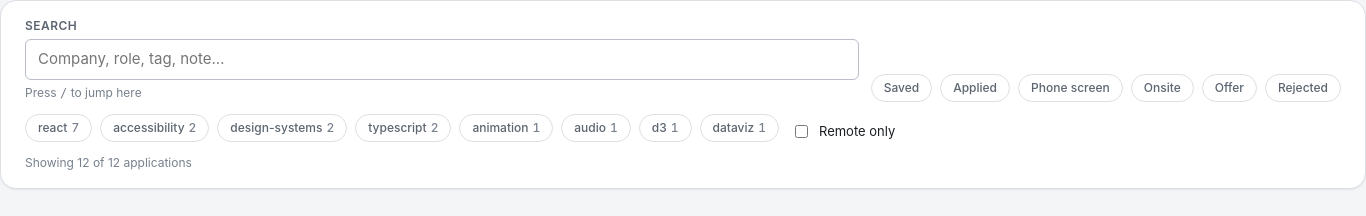
Test: FilterBar › clears every active filter at once
Expected: the text "Showing 12 of 12 applications" is shown, [25,154,192,170]
Click the checkbox labelled "Remote only". click: (802, 132)
box: [795,125,808,138]
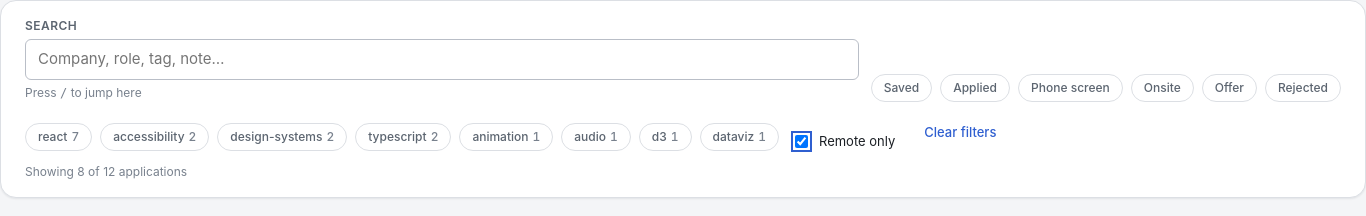
Type "engineer" into the search field labelled "Search". click: (442, 59)
box: [25,39,859,80]
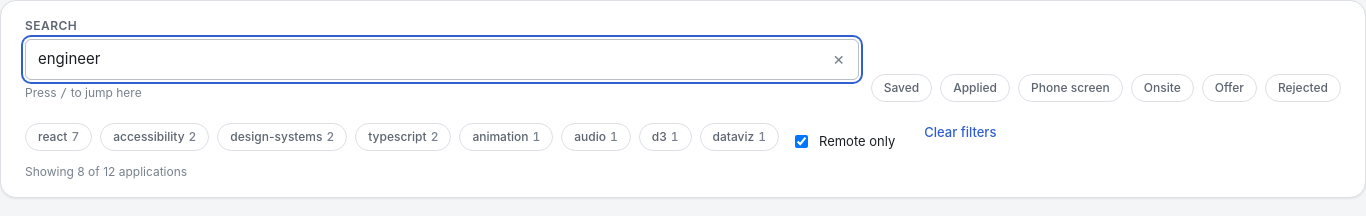
Result: the message does not show "Showing 12 of 12" at [25,164,187,179]
Click the button "Clear filters". click: (960, 132)
box: [907,114,1013,151]
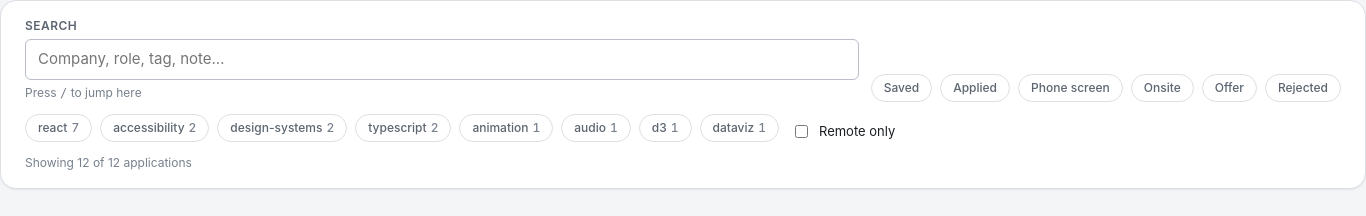
Result: the checkbox labelled "Remote only" is not checked at [795,125,808,138]
Result: the message shows "Showing 12 of 12" at [25,154,192,170]
Result: the search field labelled "Search" is empty at [25,39,859,80]
